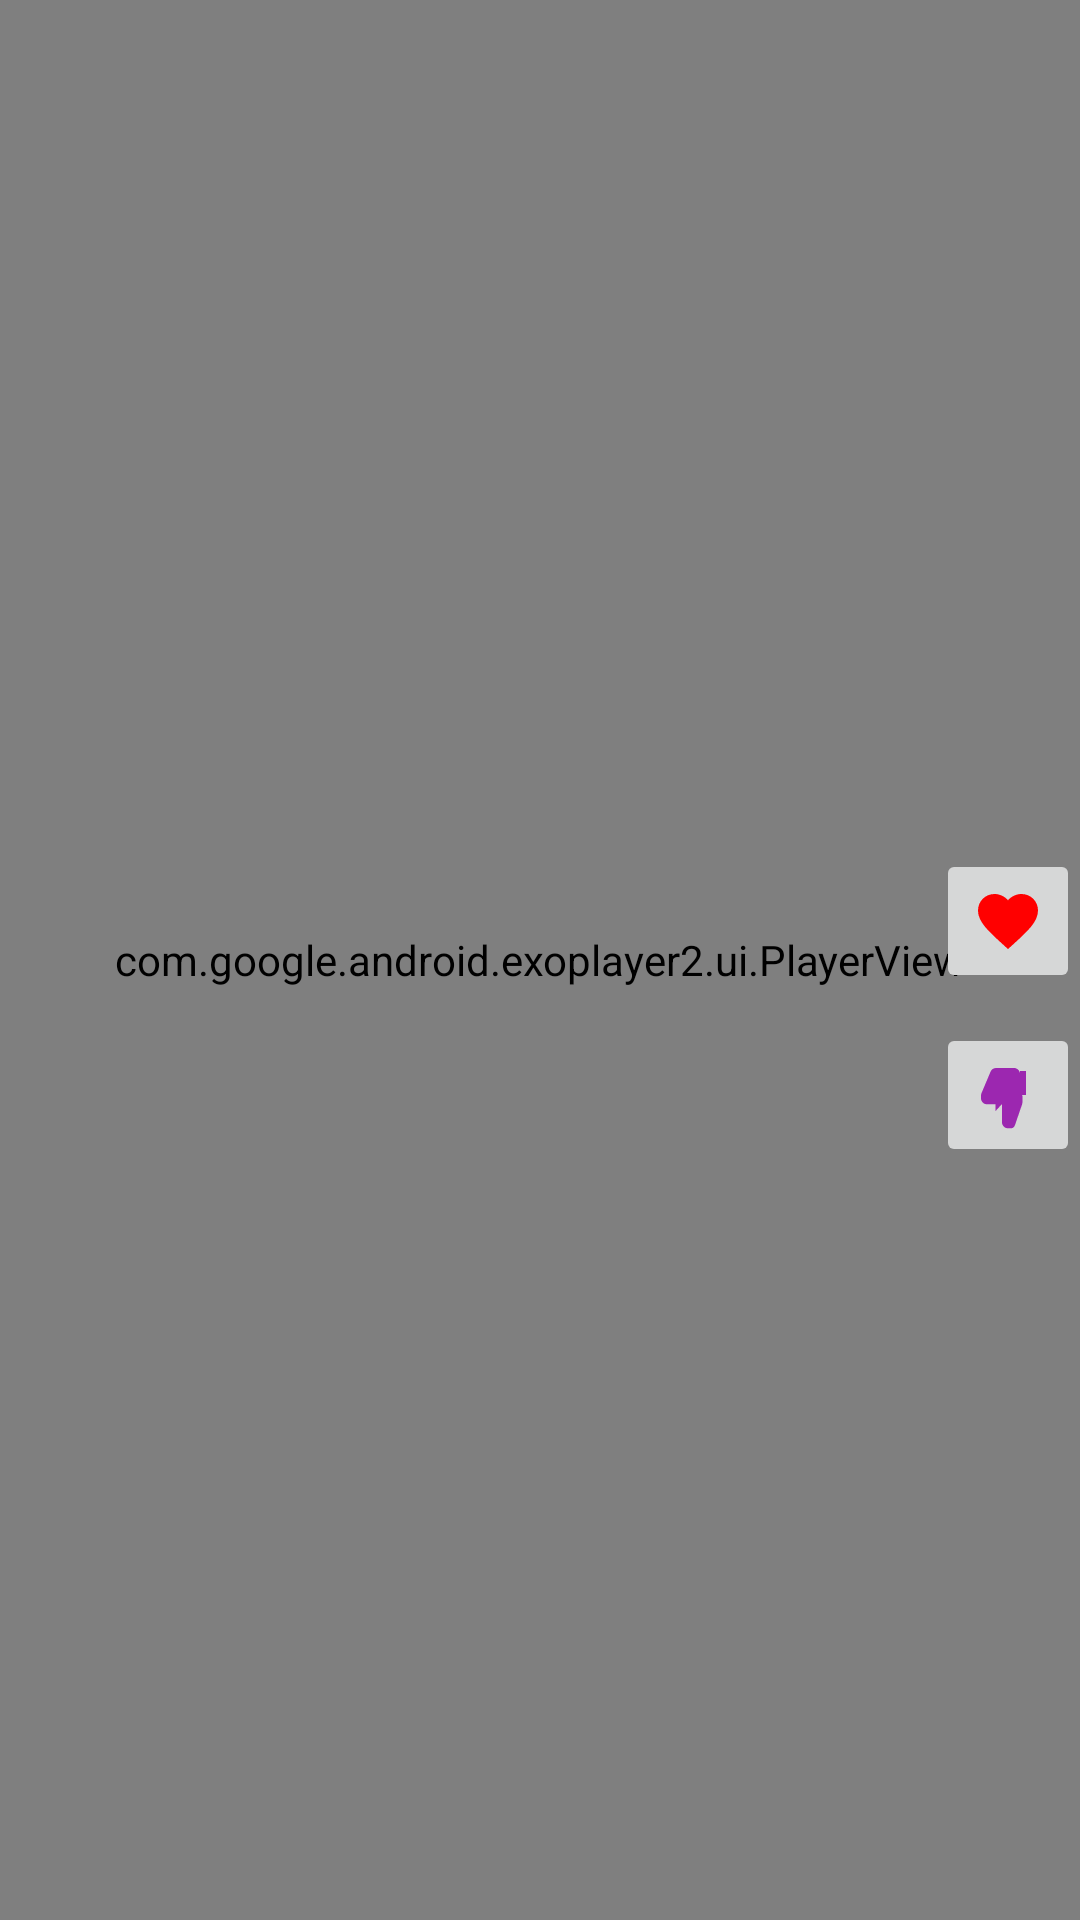

Screen size 1080×1920. Icon name, then its box in pixels as (x1, y1, x2, y2):
Thumbs Down: (948, 1041, 1068, 1149)
